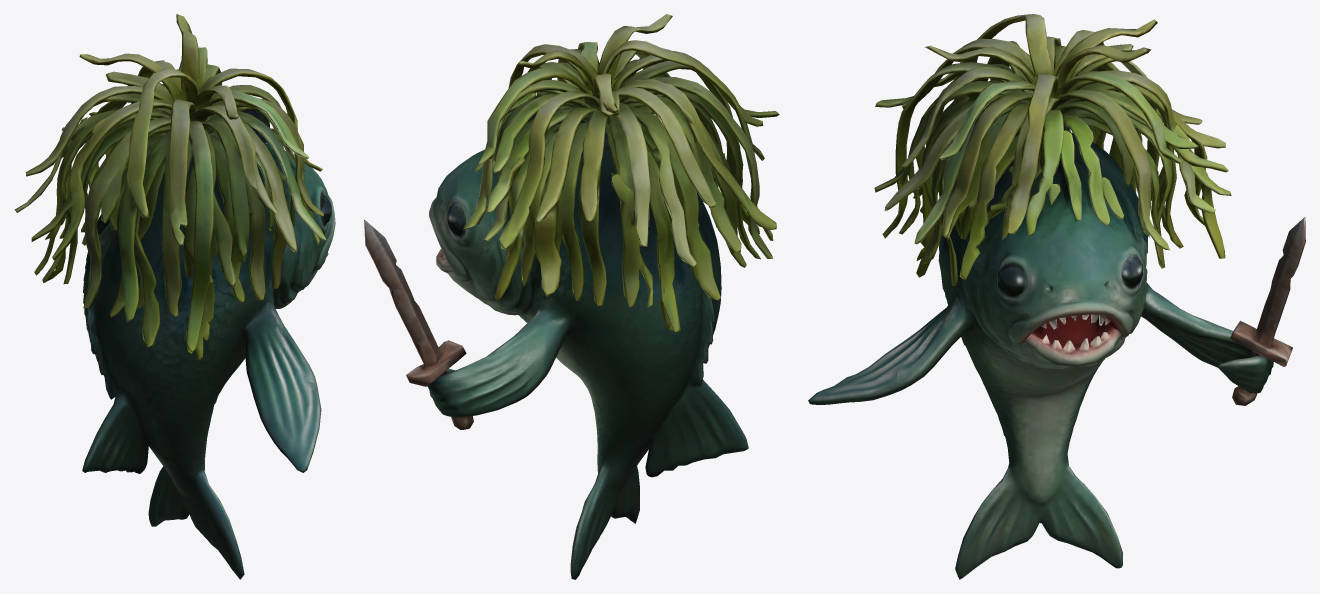
3 renders of one model, left to right at view 1: azimuth 30°, elevation 25°; view 2: azimuth 150°, elevation 25°; view 3: azimuth 270°, elevation 25°, orthographic. The views are drawn at different scales.
Visible parts, largest first — view 1: tripo_node_e63736b5-90d4-4736-8b2c-bd218574349e; view 2: tripo_node_e63736b5-90d4-4736-8b2c-bd218574349e; view 3: tripo_node_e63736b5-90d4-4736-8b2c-bd218574349e.
Boxes of the visible parts, <box> form: tripo_node_e63736b5-90d4-4736-8b2c-bd218574349e: <box>14,14,335,579</box>; tripo_node_e63736b5-90d4-4736-8b2c-bd218574349e: <box>364,14,779,579</box>; tripo_node_e63736b5-90d4-4736-8b2c-bd218574349e: <box>808,14,1305,579</box>.
Bounding box in the file's own units: 0.6199 × 0.9814 × 0.8133.
Materials: 1 (1 with a texture image).
